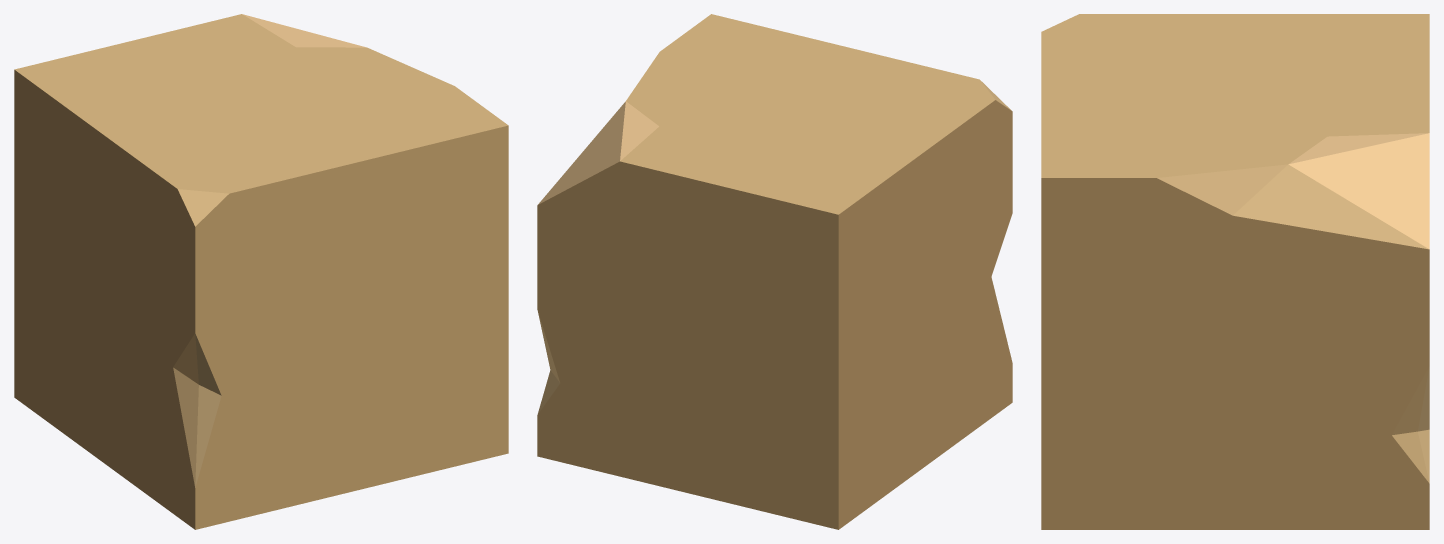
File: ST_Env_Block_02.fbx
The picture shows the model from 3 angles, left to right: view 1: azimuth 30°, elevation 25°; view 2: azimuth 150°, elevation 25°; view 3: azimuth 270°, elevation 25°; orthographic projection. The views are drawn at different scales.
Parts seen in each view (by area): view 1: ST_Env_Block_02; view 2: ST_Env_Block_02; view 3: ST_Env_Block_02.
Part boxes in pixels (x1,y1,x2,y2): ST_Env_Block_02: (14,14,508,529); ST_Env_Block_02: (537,14,1012,529); ST_Env_Block_02: (1041,14,1429,529).
Size of the model in its own units: 5 by 5 by 5.
